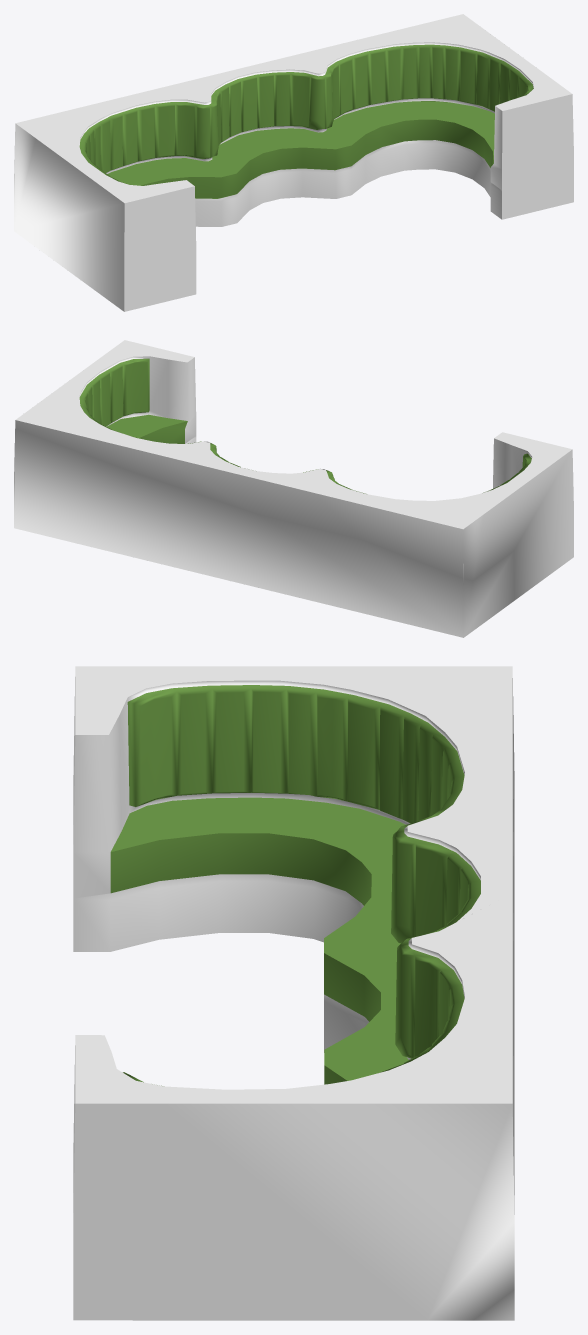
File: 1776616c-aca1-414f-983a-4dd0e53ea95b.glb
3 renders of one model, top to bottom at view 1: azimuth 30°, elevation 25°; view 2: azimuth 150°, elevation 25°; view 3: azimuth 270°, elevation 25°, orthographic. The views are drawn at different scales.
Visible parts, largest first — view 1: BarCouch.004; view 2: BarCouch.004; view 3: BarCouch.004.
Part boxes in pixels (x1,y1,x2,y2): BarCouch.004: (14,14,573,311); BarCouch.004: (14,340,573,637); BarCouch.004: (73,666,514,1320).
Size of what is drawn, in the model's own units: 4.75 by 1.09 by 2.02.
Materials: 1 (1 with a texture image).
